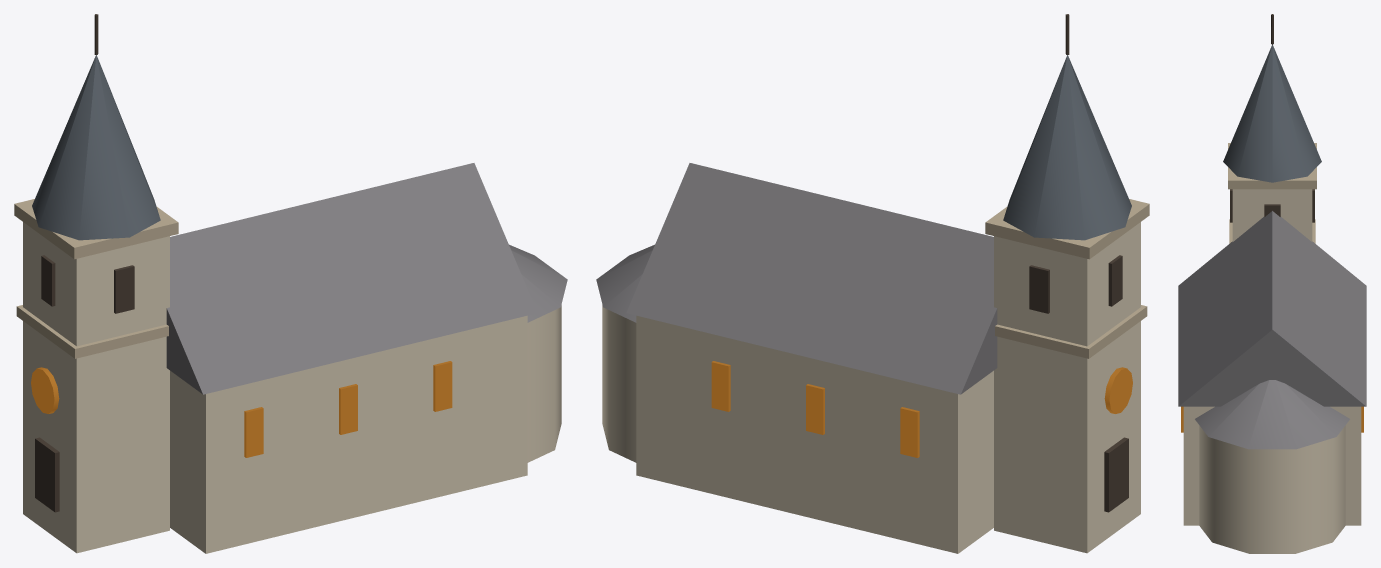
File: eglise-2.glb
3 views of the same model, side by side, from view 1: azimuth 30°, elevation 25°; view 2: azimuth 150°, elevation 25°; view 3: azimuth 270°, elevation 25° (orthographic). The views are drawn at different scales.
Visible parts, largest first — view 1: Église; view 2: Église; view 3: Église.
Boxes of the visible parts, left/top/right/bottom form: Église: left=14, top=14, right=567, bottom=553; Église: left=596, top=14, right=1149, bottom=553; Église: left=1178, top=14, right=1366, bottom=553.
Bounding box in the file's own units: 32.56 × 30.81 × 13.95.
